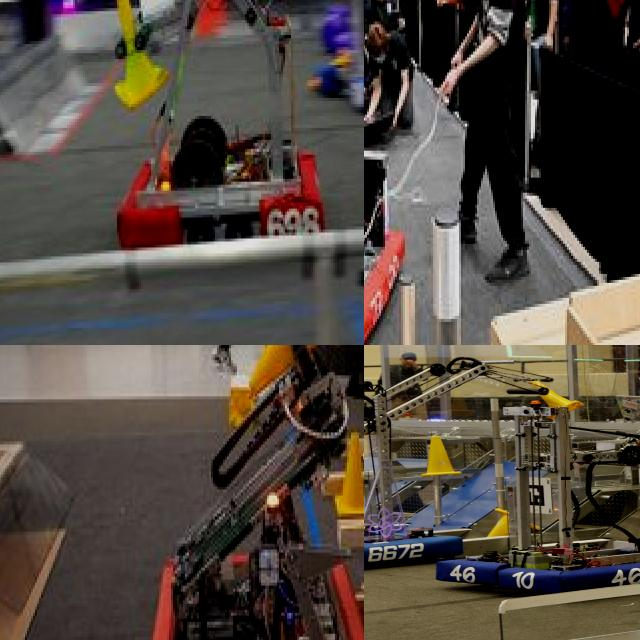FRC-Robots: (79, 0, 355, 248), (140, 345, 364, 640), (364, 363, 569, 585), (425, 397, 640, 594), (364, 20, 421, 337)
